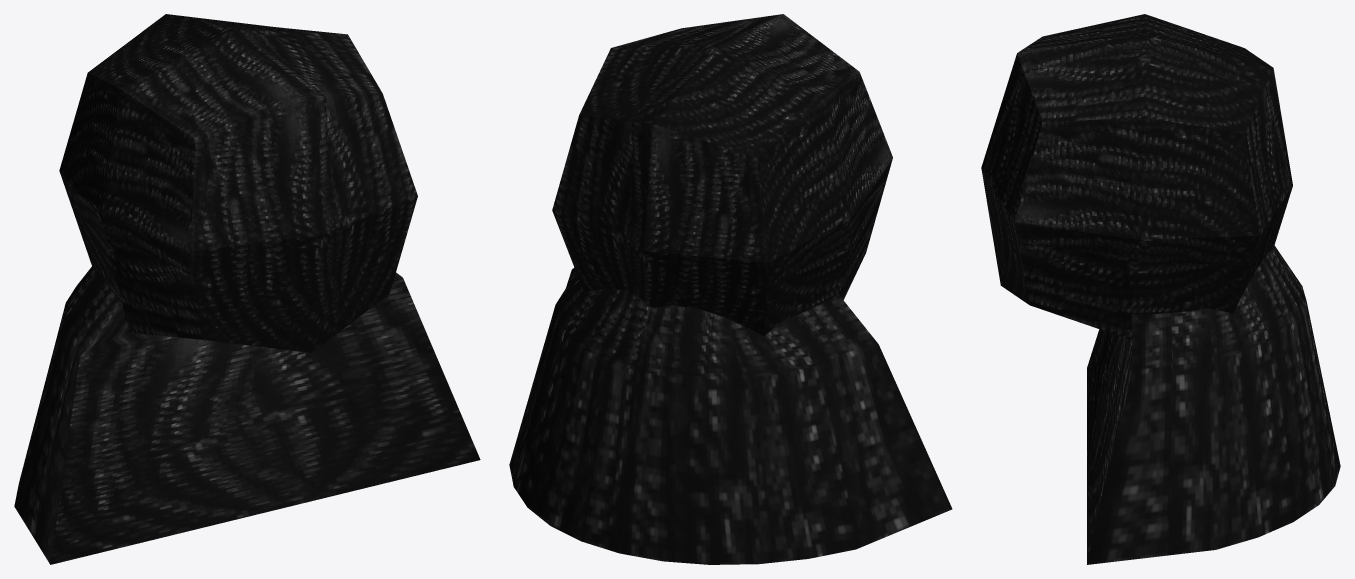
File: hair_long_aksum_male_04.dae
The picture shows the model from 3 angles, left to right: view 1: azimuth 30°, elevation 25°; view 2: azimuth 150°, elevation 25°; view 3: azimuth 270°, elevation 25°; orthographic projection. The views are drawn at different scales.
Visible parts, largest first — view 1: a_hair_long_aksum_male_04; view 2: a_hair_long_aksum_male_04; view 3: a_hair_long_aksum_male_04.
Boxes of the visible parts, <box> form: a_hair_long_aksum_male_04: <box>14,14,480,564</box>; a_hair_long_aksum_male_04: <box>509,14,952,564</box>; a_hair_long_aksum_male_04: <box>981,14,1340,564</box>.
Size of the model in its own units: 0.8154 by 0.6295 by 0.8323.
